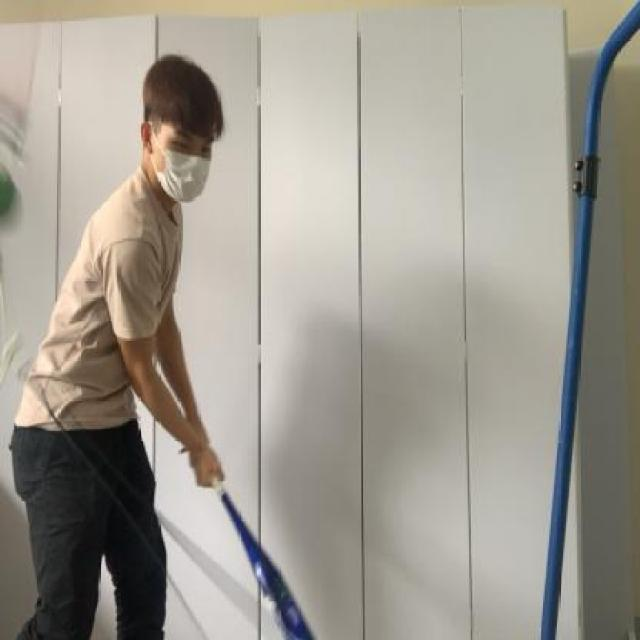baseball: (0, 159, 22, 224)
